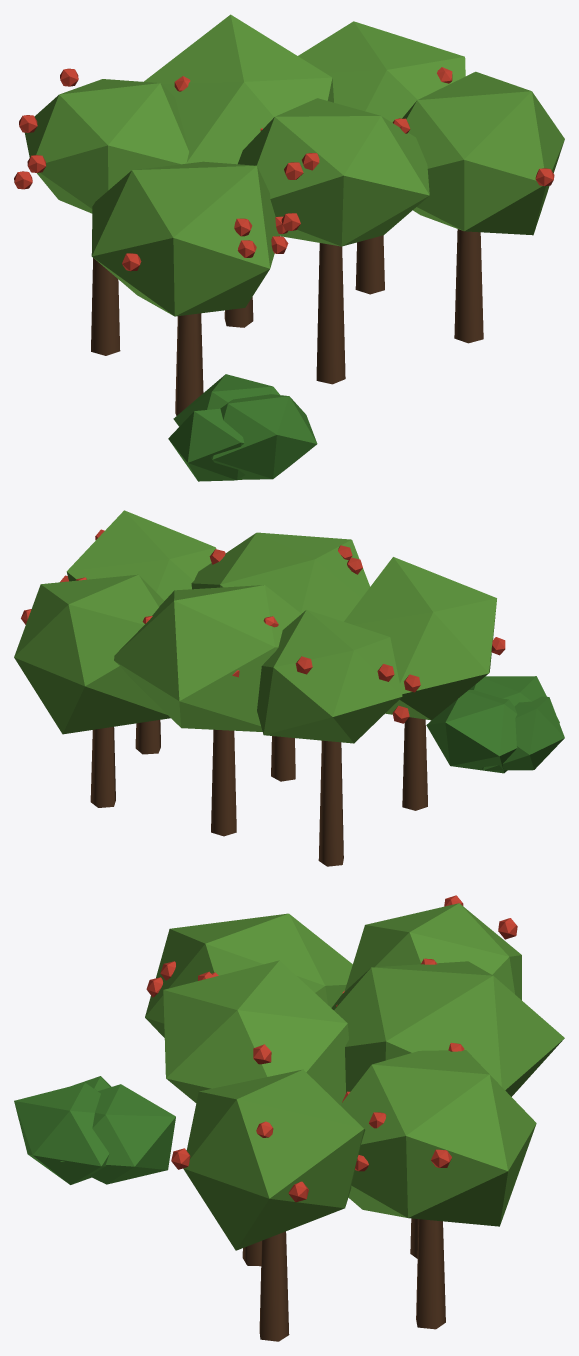
Rendered from sawyer_orchard_e.glb.
3 renders of one model, top to bottom at view 1: azimuth 30°, elevation 25°; view 2: azimuth 150°, elevation 25°; view 3: azimuth 270°, elevation 25°, orthographic. The views are drawn at different scales.
Visible parts, largest first — view 1: fruit_3_crown, fruit_4_crown, fruit_5_crown, fruit_1_crown, fruit_0_crown, fruit_2_crown, bush_6_leaves0, fruit_4_trunk, bush_6_leaves2, fruit_5_trunk, fruit_3_trunk, fruit_0_trunk (+2 smaller); view 2: fruit_1_crown, fruit_2_crown, fruit_3_crown, fruit_0_crown, fruit_4_crown, fruit_5_crown, bush_6_leaves1, bush_6_leaves2, fruit_0_trunk, fruit_1_trunk, fruit_3_trunk, fruit_2_trunk (+3 smaller); view 3: fruit_2_crown, fruit_5_crown, fruit_4_crown, fruit_1_crown, fruit_3_crown, fruit_0_crown, bush_6_leaves0, bush_6_leaves1, fruit_2_trunk, fruit_5_trunk.
Boxes of the visible parts, left/top/right/bottom form: fruit_3_crown: left=91, top=161, right=280, bottom=316; fruit_4_crown: left=238, top=98, right=429, bottom=246; fruit_5_crown: left=402, top=71, right=564, bottom=235; fruit_1_crown: left=143, top=14, right=333, bottom=164; fruit_0_crown: left=25, top=79, right=189, bottom=213; fruit_2_crown: left=298, top=21, right=465, bottom=122; bush_6_leaves0: left=211, top=394, right=317, bottom=479; fruit_4_trunk: left=316, top=243, right=345, bottom=384; bush_6_leaves2: left=168, top=408, right=245, bottom=481; fruit_5_trunk: left=454, top=229, right=483, bottom=343; fruit_3_trunk: left=175, top=313, right=203, bottom=415; fruit_0_trunk: left=91, top=258, right=120, bottom=355; fruit_1_crown: left=114, top=585, right=301, bottom=731; fruit_2_crown: left=14, top=574, right=170, bottom=734; fruit_3_crown: left=344, top=557, right=496, bottom=720; fruit_0_crown: left=257, top=609, right=402, bottom=743; fruit_4_crown: left=191, top=532, right=370, bottom=621; fruit_5_crown: left=66, top=510, right=216, bottom=600; bush_6_leaves1: left=426, top=690, right=517, bottom=773; bush_6_leaves2: left=482, top=696, right=564, bottom=770; fruit_0_trunk: left=318, top=740, right=343, bottom=866; fruit_1_trunk: left=211, top=729, right=236, bottom=836; fruit_3_trunk: left=402, top=717, right=427, bottom=810; fruit_2_trunk: left=90, top=726, right=115, bottom=807; fruit_2_crown: left=340, top=1050, right=536, bottom=1226; fruit_5_crown: left=183, top=1069, right=365, bottom=1250; fruit_4_crown: left=163, top=960, right=348, bottom=1104; fruit_1_crown: left=331, top=961, right=564, bottom=1096; fruit_3_crown: left=145, top=913, right=352, bottom=1037; fruit_0_crown: left=344, top=903, right=521, bottom=1000; bush_6_leaves0: left=14, top=1082, right=109, bottom=1184; bush_6_leaves1: left=60, top=1084, right=175, bottom=1184; fruit_2_trunk: left=416, top=1219, right=445, bottom=1329; fruit_5_trunk: left=259, top=1231, right=289, bottom=1341.
Size of the model in its own units: 3.56 by 1.99 by 3.41.
